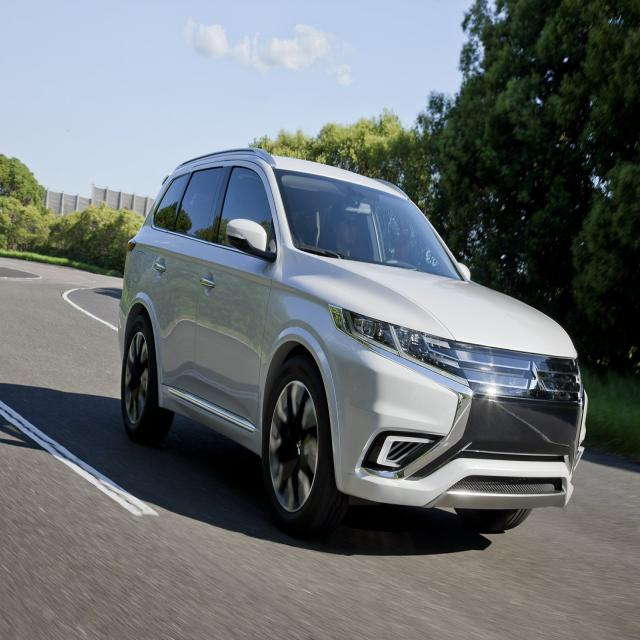light_vehicle: (117, 147, 589, 539)
